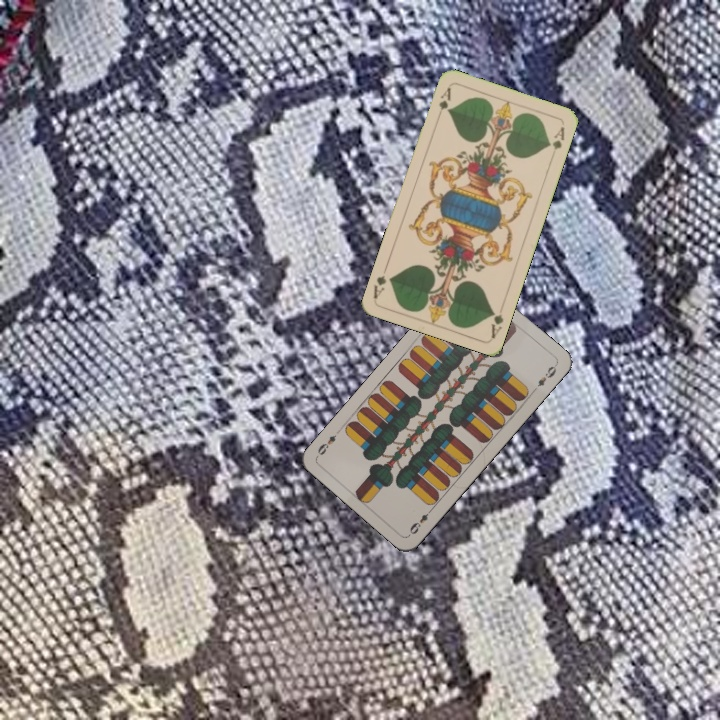E9: (405, 504, 436, 537)
GA: (487, 307, 506, 340), (435, 83, 454, 114)
